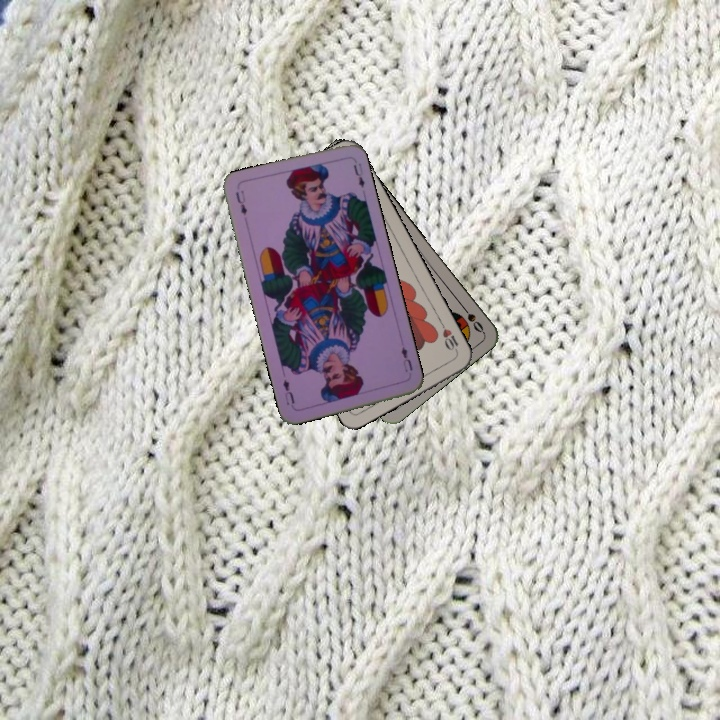EU: (397, 343, 415, 375), (232, 186, 249, 218)
H10: (436, 318, 461, 356)
SO: (457, 300, 486, 335)
